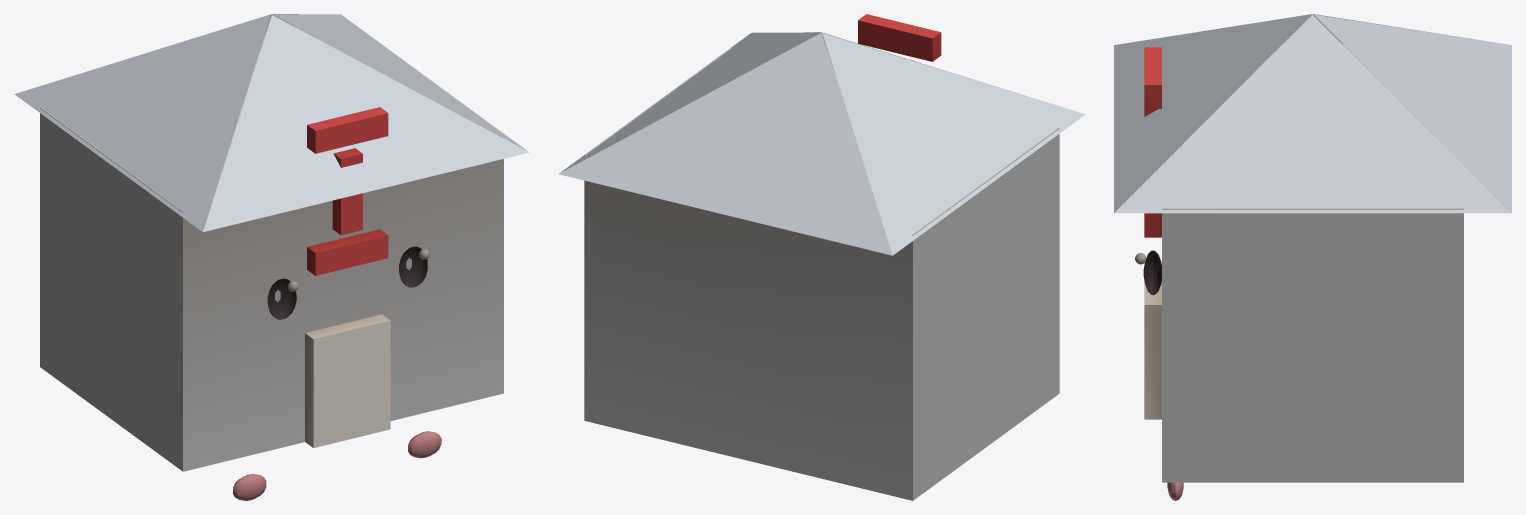
Rendered from pfc973710.glb.
3 views of the same model, side by side, from view 1: azimuth 30°, elevation 25°; view 2: azimuth 150°, elevation 25°; view 3: azimuth 270°, elevation 25° (orthographic). The views are drawn at different scales.
Visible parts, largest first — view 1: pet_pfc973710; view 2: pet_pfc973710; view 3: pet_pfc973710.
Boxes of the visible parts, x1,y1,x2,y2 form: pet_pfc973710: [14, 14, 529, 500]; pet_pfc973710: [558, 14, 1085, 500]; pet_pfc973710: [1114, 14, 1511, 500].
Size of the model in its own units: 0.448 by 0.5458 by 0.448.
